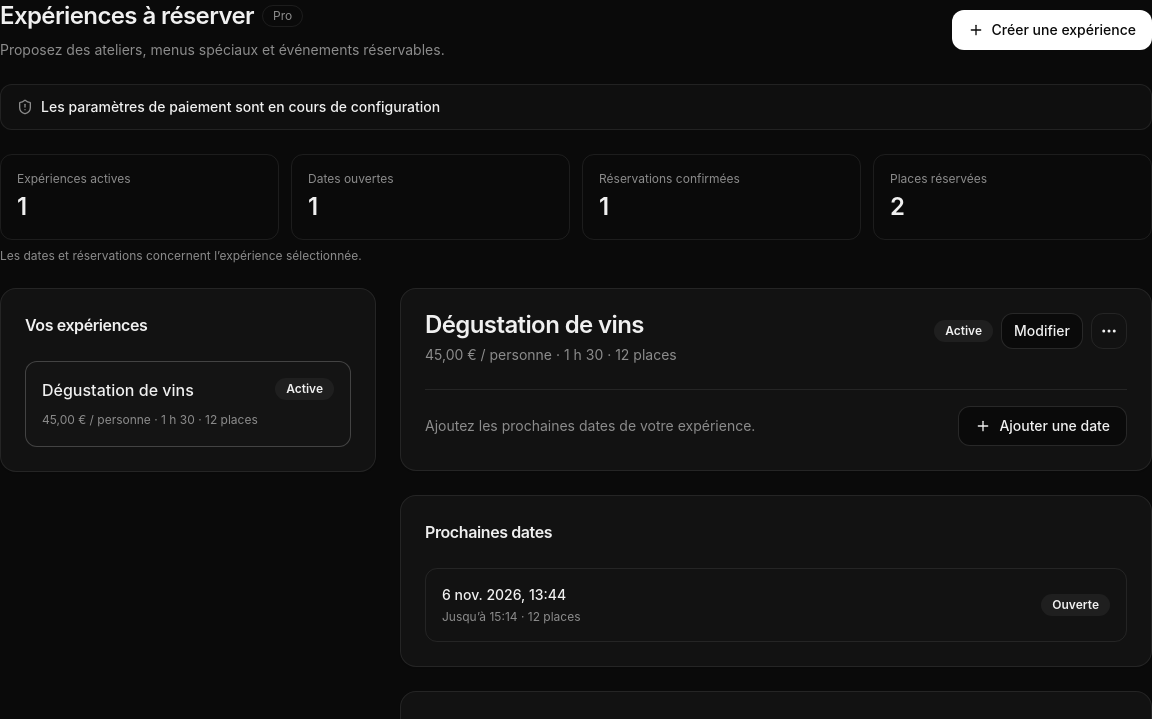
Test case: ExperiencesPage › convertit le prix saisi en euros en centimes pour l’API
The image size is (1152, 719).
Expected: the heading "Expériences à réserver" is shown, [0,0,254,32]
Click the button "Créer une expérience": (1052,30) [952,10,1151,50]
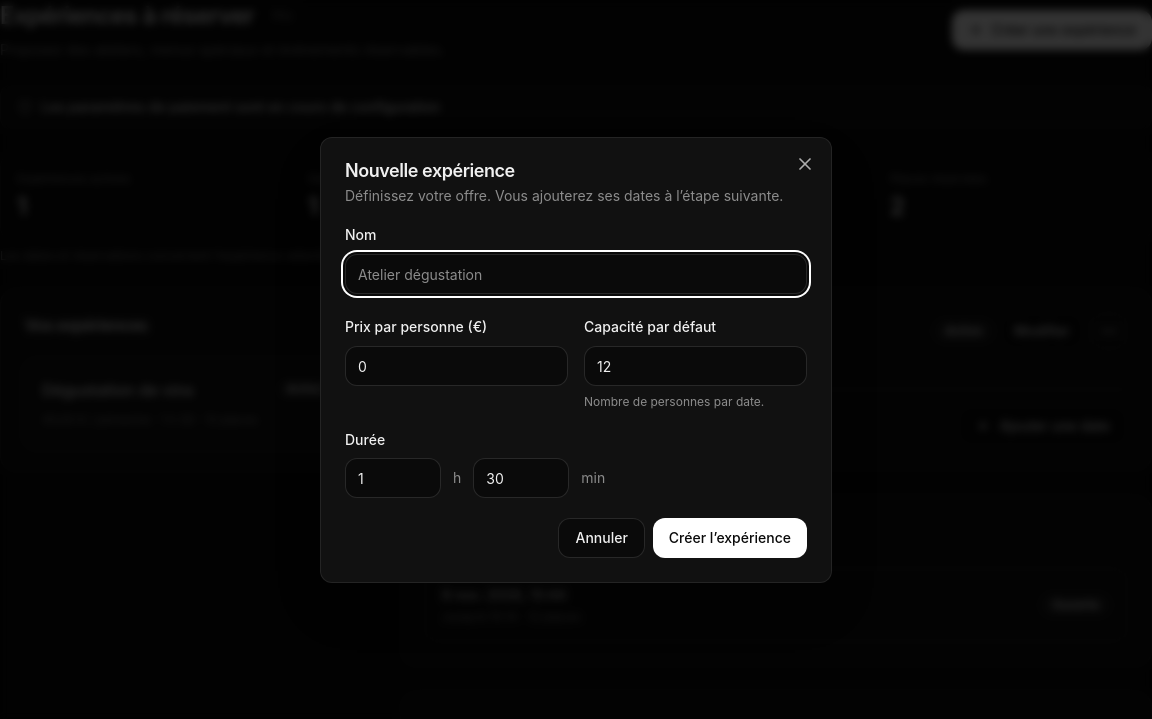
In the field labelled "Nom": (576,274) [345,254,807,294], type "Atelier vins"
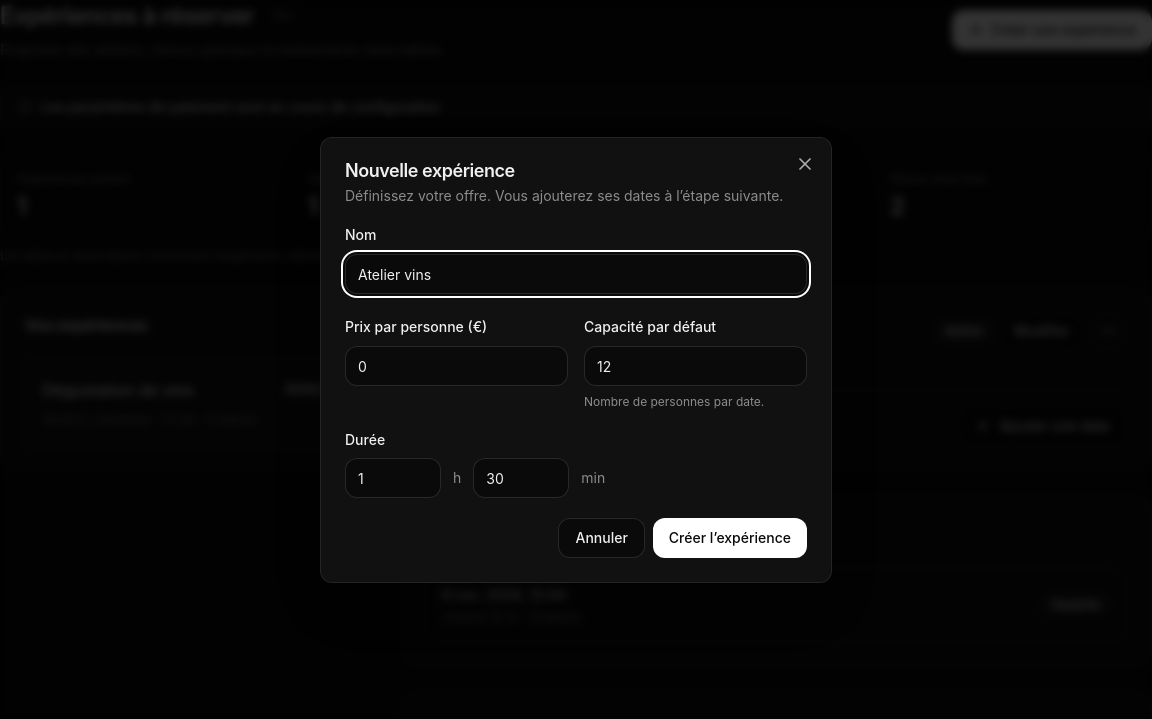
Replace the text in the field labelled "Prix par personne (€)" with "45.50": (456,366) [345,346,568,386]
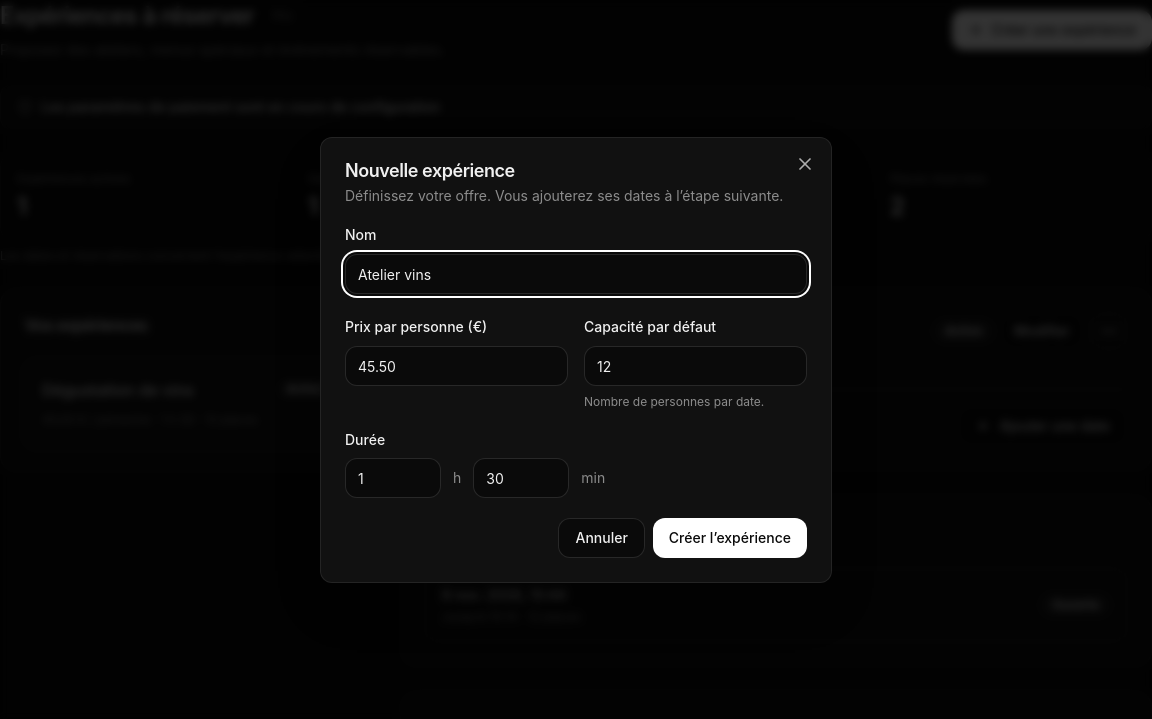
Click the button "Créer l’expérience": (730,538) [653,518,807,558]
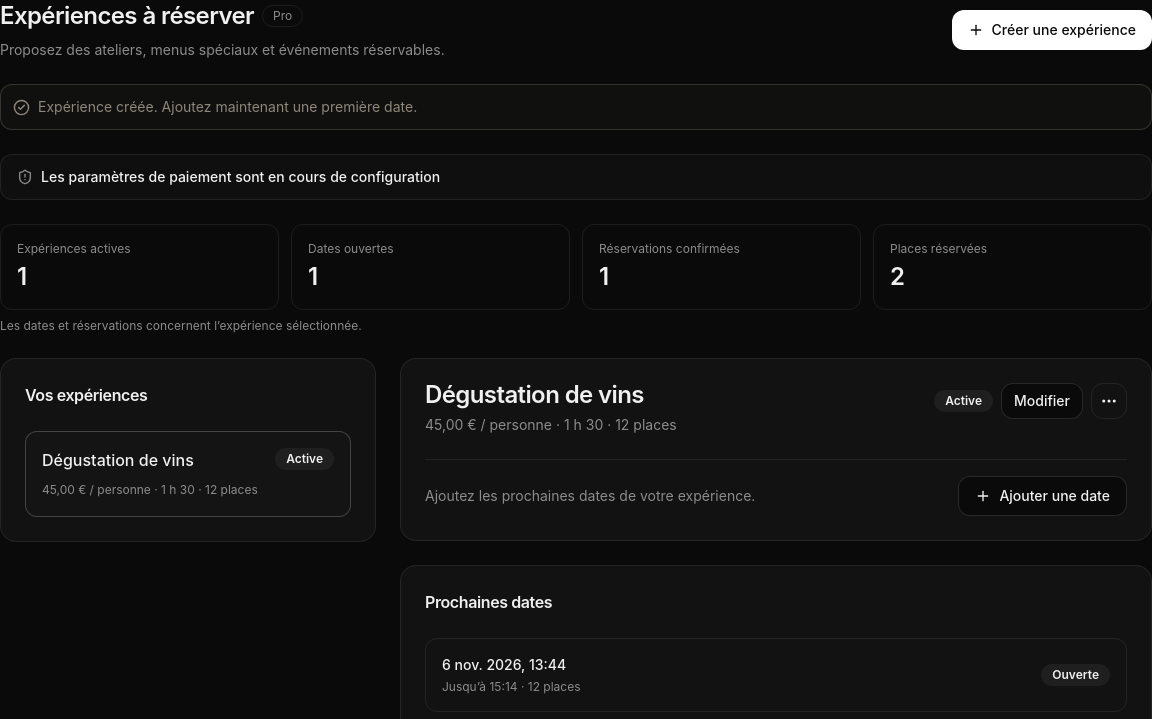
Result: the text "Expérience créée. Ajoutez maintenant une première date." is shown at [0,84,1151,130]
